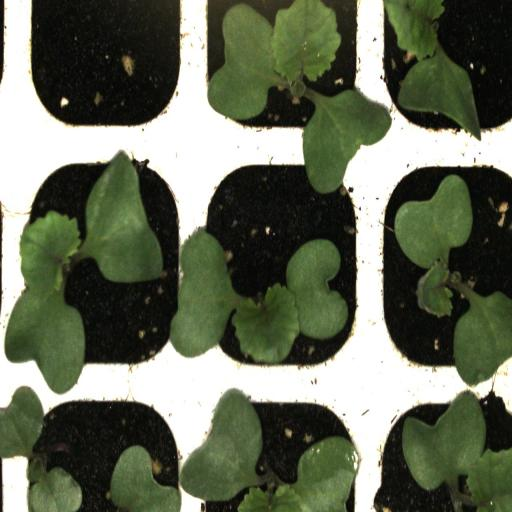Folha: (0, 388, 83, 512), (453, 289, 512, 388)
Germinacao: (192, 142, 373, 383), (11, 139, 189, 384), (374, 142, 512, 380), (191, 0, 374, 138), (191, 382, 372, 512), (376, 0, 512, 139), (374, 378, 512, 511)
